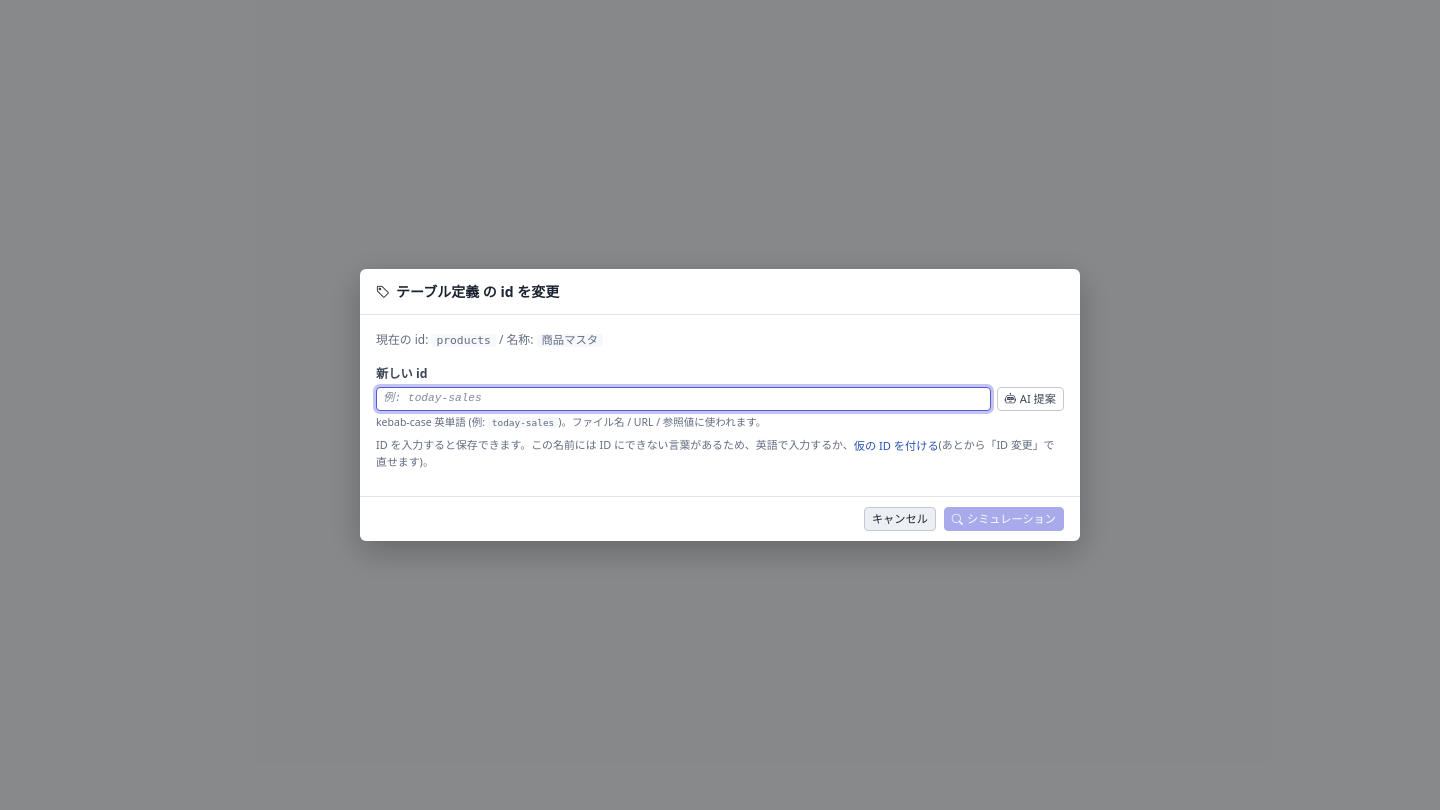
Test case: RenameEntityDialog › 有効 id 入力 + シミュレーション → preview RPC 呼出 + preview 画面に遷移
Type "products-v2" into the field with test id "entity-id-input" showing "新しい id" at [683, 399], box 376,387 -> 991,410
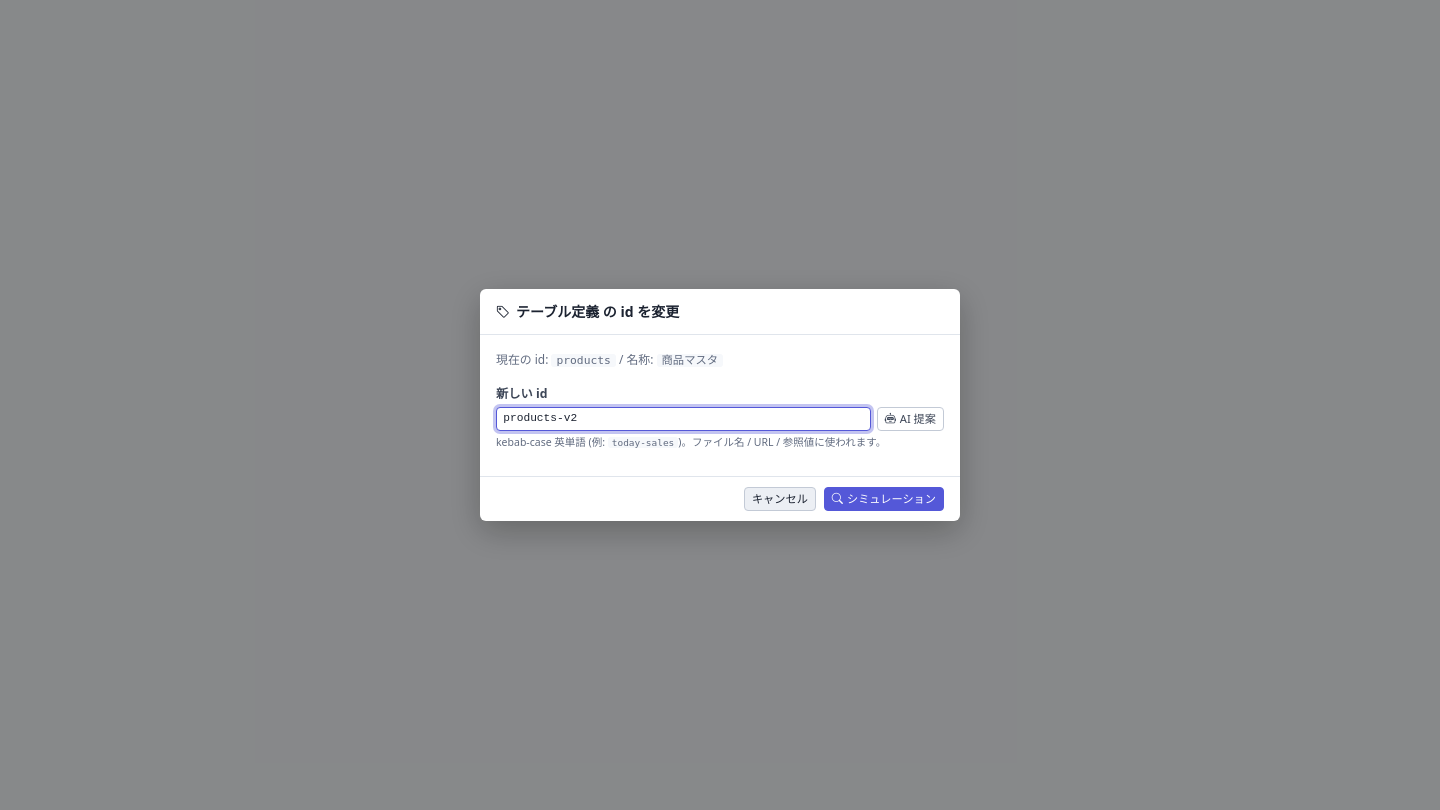
Result: the button with test id "rename-entity-preview-btn" is enabled
Click the button with test id "rename-entity-preview-btn" at [884, 499], box 824,487 -> 944,511
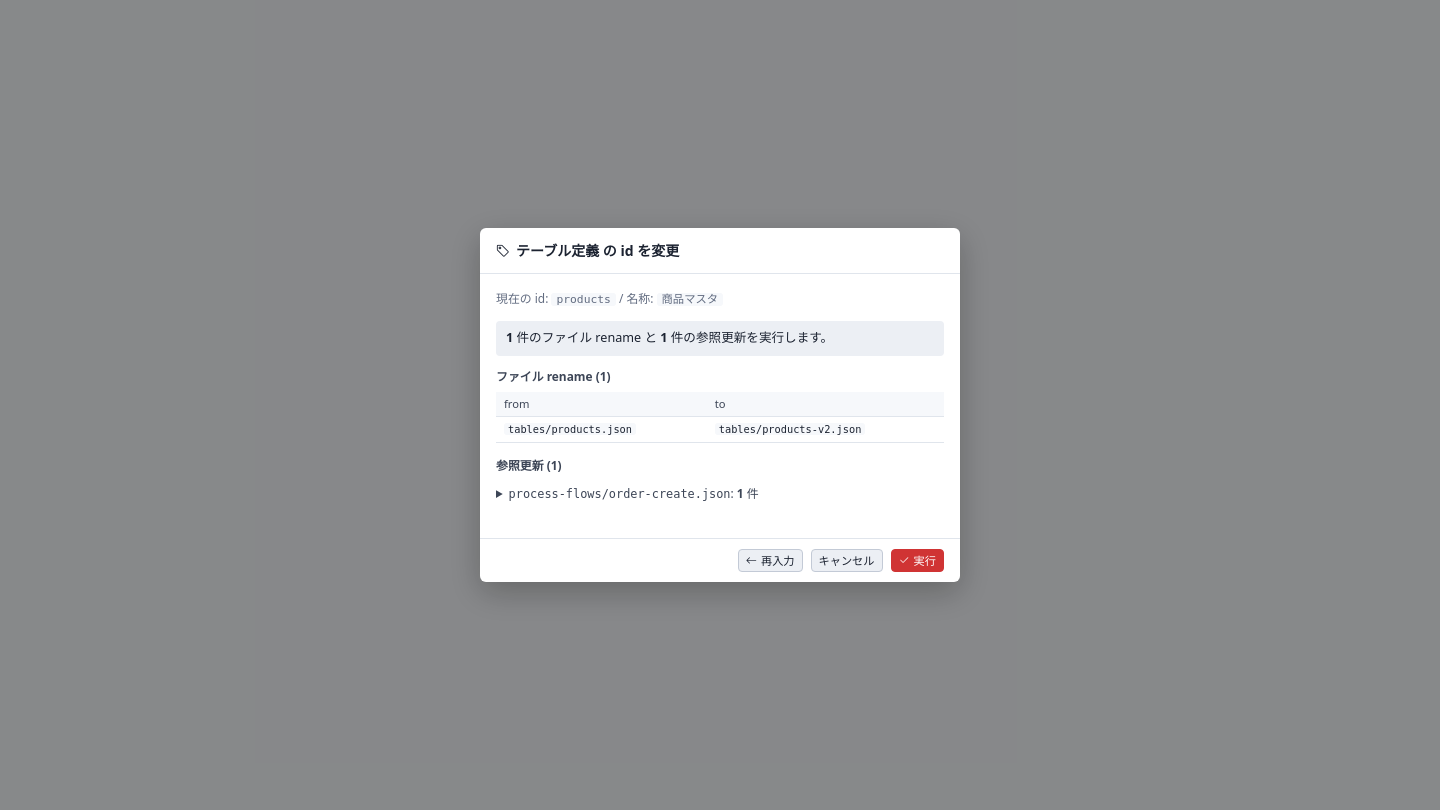
Result: the element with test id "rename-entity-preview-summary" reads "1 件のファイル rename と 1 件の参照更新を実行します。" at 496,321 -> 944,356
Result: the text "process-flows/order-create.json" is shown at 509,487 -> 730,501
